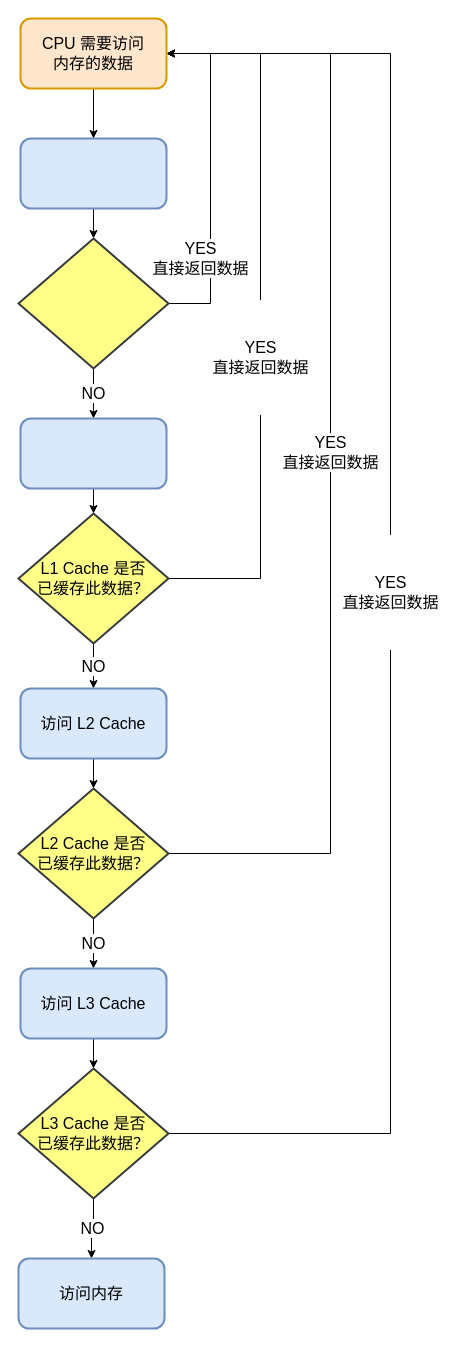
This 455x1346 diagram has some shape labels left out. The shapes that lost their labels are listed below. From the top down, each one's box as (x1, y1, x2, y2) in pixels, then its label:
(19, 137, 167, 209): 访问寄存器
(17, 237, 169, 369): 寄存器是否 已缓存此数据？
(19, 417, 167, 489): 访问 L1 Cache
